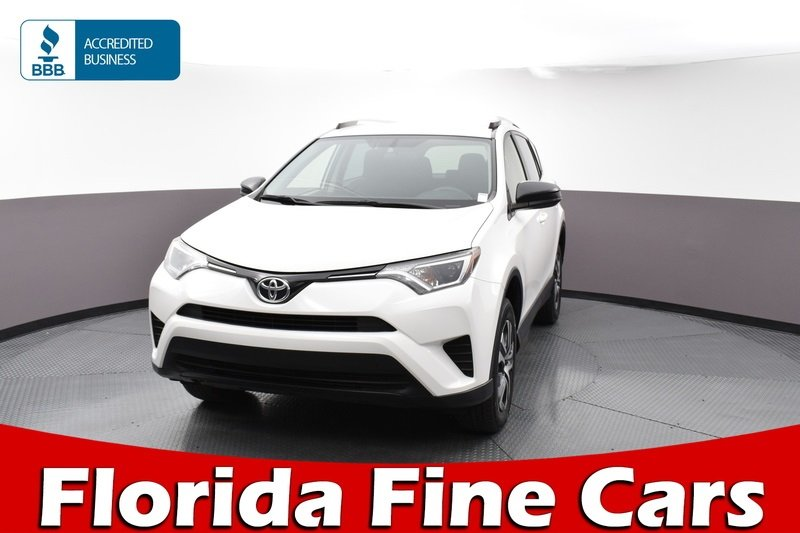Toyota RAV-4: (146, 115, 567, 435)
